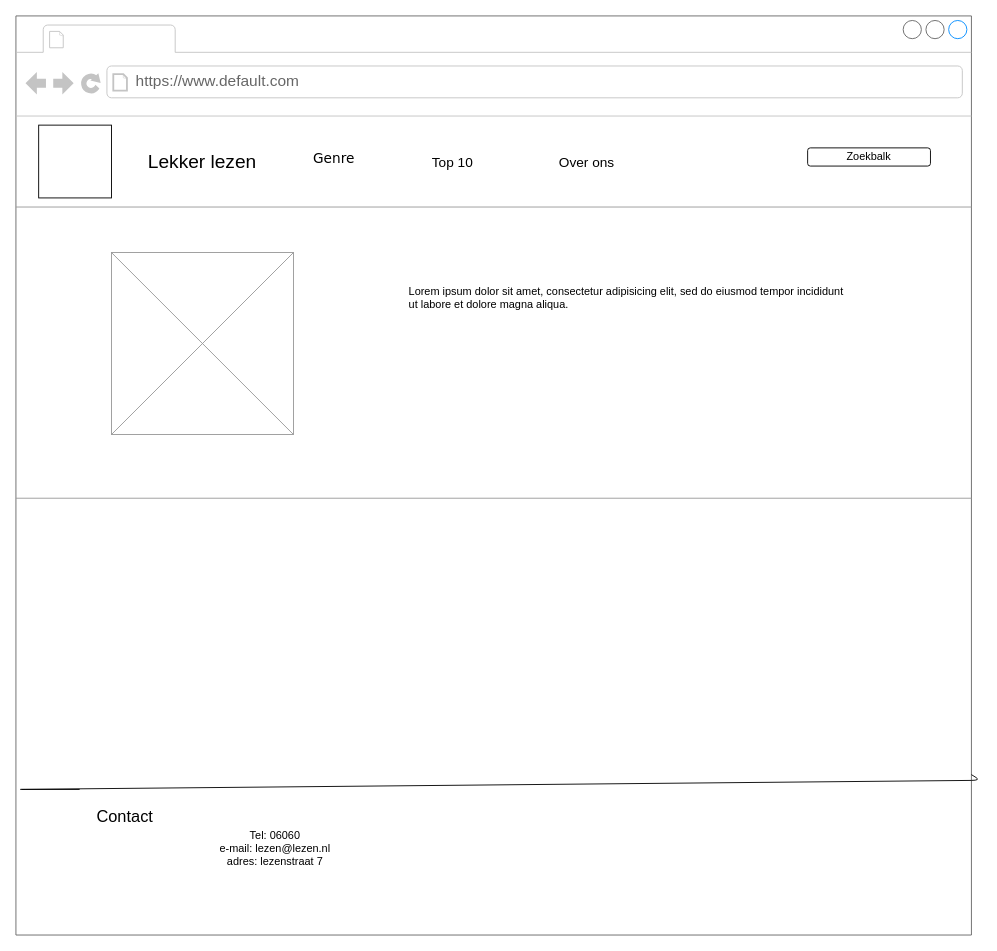
Some shapes in this 997 by 951 pixel diagram are drawn without their labels. Each missing label, with the centre of its shape:
Logo: (74,161)
Page 1: (120,38)
